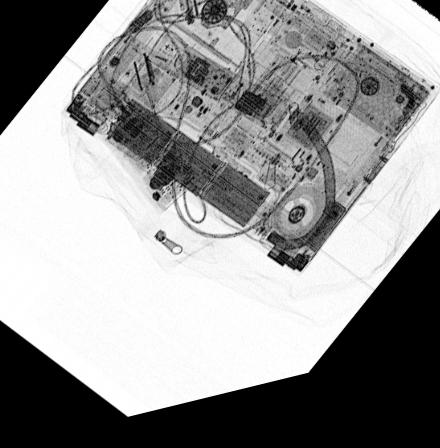Baton: (146, 41, 291, 144)
